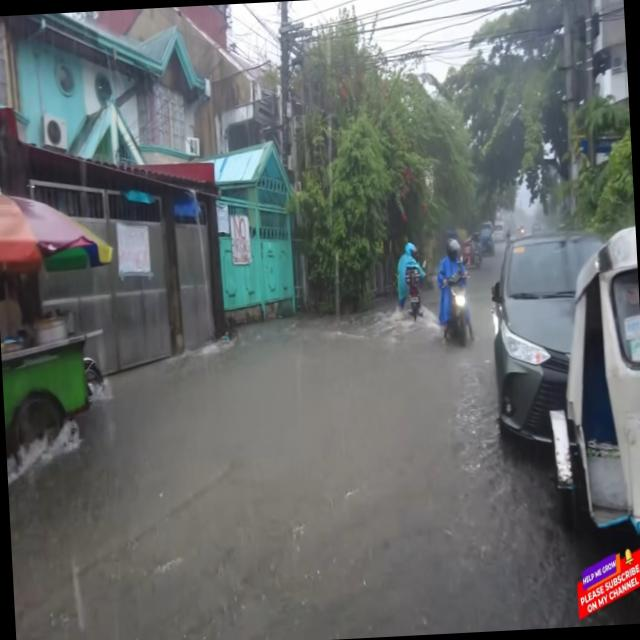half: (444, 237, 464, 266), (404, 240, 419, 260)
